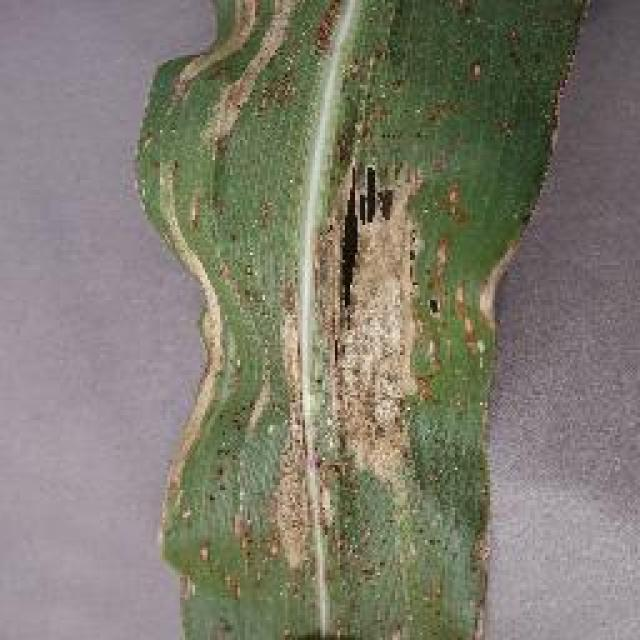Corn___Northern_Leaf_Blight: (110, 0, 630, 640)
